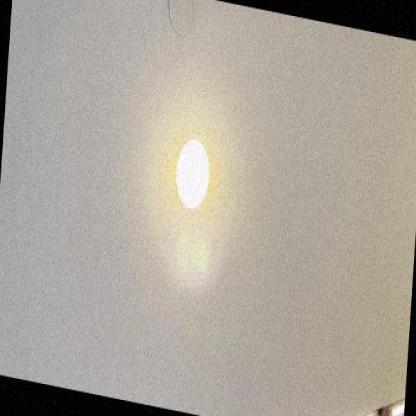light_on: (165, 117, 222, 222)
